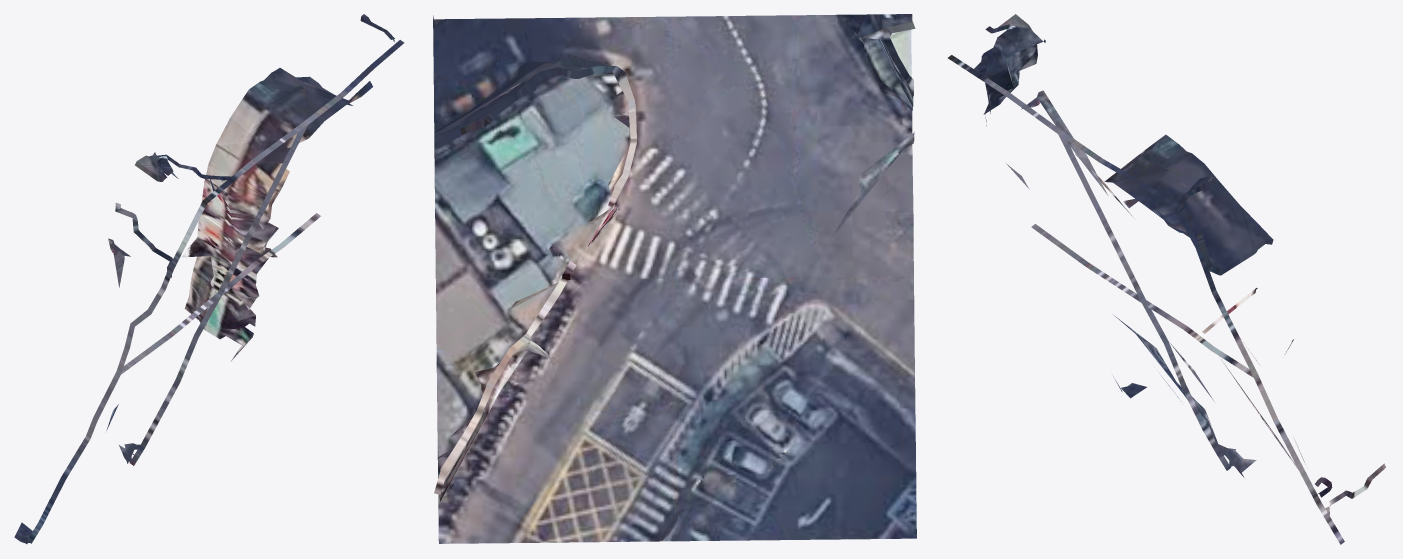
3 views of the same model, side by side, from view 1: azimuth 30°, elevation 25°; view 2: azimuth 150°, elevation 25°; view 3: azimuth 270°, elevation 25° (orthographic). The views are drawn at different scales.
Bounding box in the file's own units: 38.71 × 36.92 × 36.15.
Materials: 1 (1 with a texture image).
